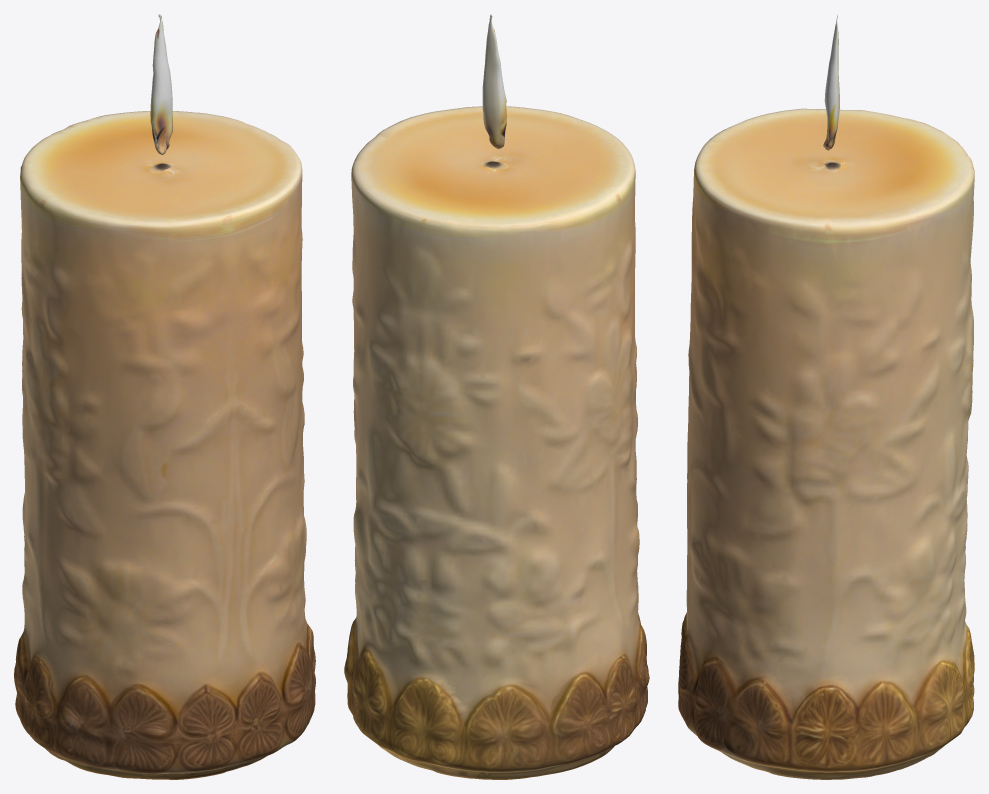
File: Meshy_AI_bougie_candle_0327215727_texture.glb
3 views of the same model, side by side, from view 1: azimuth 30°, elevation 25°; view 2: azimuth 150°, elevation 25°; view 3: azimuth 270°, elevation 25° (orthographic).
Bounding box in the file's own units: 0.7669 × 1.98 × 0.7471.
Materials: 1 (1 with a texture image).
